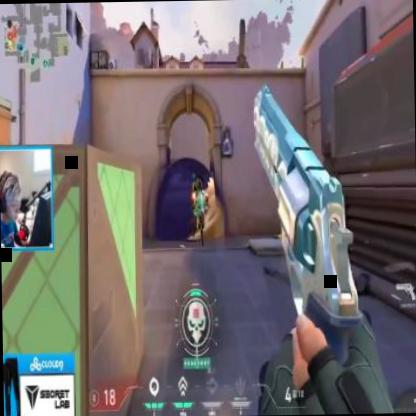enemy: (191, 177, 210, 245)
enemy_head: (195, 178, 201, 190)
